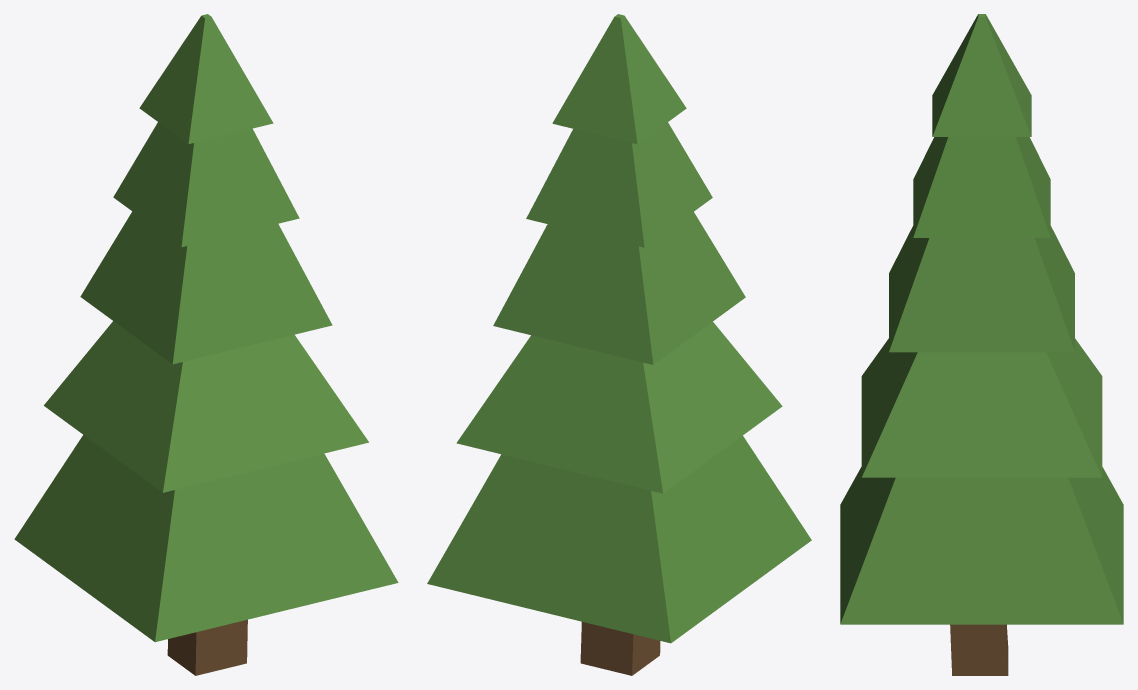
Rendered from tree3d-159.glb.
3 views of the same model, side by side, from view 1: azimuth 30°, elevation 25°; view 2: azimuth 150°, elevation 25°; view 3: azimuth 270°, elevation 25° (orthographic).
Visible parts, largest first — view 1: tree3d-159; view 2: tree3d-159; view 3: tree3d-159.
Boxes of the visible parts, x1=… form: tree3d-159: x1=14, y1=14, x2=398, y2=675; tree3d-159: x1=427, y1=14, x2=811, y2=675; tree3d-159: x1=840, y1=14, x2=1123, y2=675.
Bounding box in the file's own units: 0.3966 × 1 × 0.3966.
